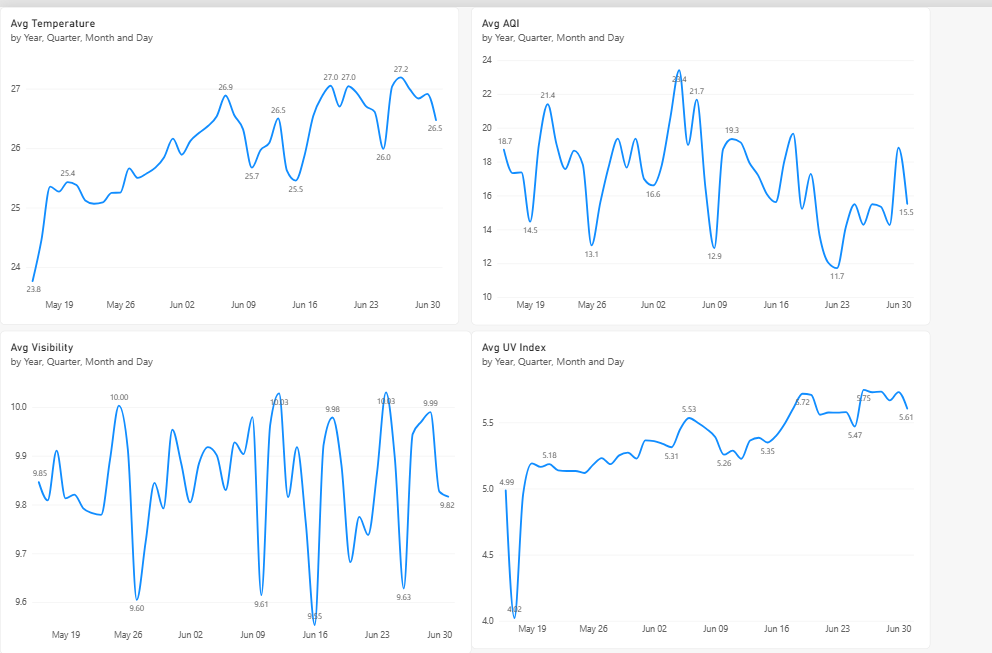

This screenshot's page, from the dashboard's own definition file:
{"tool":"powerbi","page":{"name":"Trends over time(2)","canvas":[1920,1080],"ordinal":10},"visuals":[{"type":"lineChart","fields":{"Category":["DateTable.Date.Variation.Date Hierarchy.Year","DateTable.Date.Variation.Date Hierarchy.Quarter","DateTable.Date.Variation.Date Hierarchy.Month","DateTable.Date.Variation.Date Hierarchy.Day"],"Y":["GlobalWeatherRepository.Avg WindSpeed"]},"box":[0,525,615,515],"z":0},{"type":"lineChart","fields":{"Category":["DateTable.Date.Variation.Date Hierarchy.Year","DateTable.Date.Variation.Date Hierarchy.Quarter","DateTable.Date.Variation.Date Hierarchy.Month","DateTable.Date.Variation.Date Hierarchy.Day"],"Y":["GlobalWeatherRepository.Avg Precipitation"]},"box":[625,0,615,515],"z":1000},{"type":"lineChart","fields":{"Category":["DateTable.Date.Variation.Date Hierarchy.Year","DateTable.Date.Variation.Date Hierarchy.Quarter","DateTable.Date.Variation.Date Hierarchy.Month","DateTable.Date.Variation.Date Hierarchy.Day"],"Y":["GlobalWeatherRepository.Avg cloudcover"]},"box":[625,525,615,515],"z":2000},{"type":"lineChart","fields":{"Category":["DateTable.Date.Variation.Date Hierarchy.Year","DateTable.Date.Variation.Date Hierarchy.Quarter","DateTable.Date.Variation.Date Hierarchy.Month","DateTable.Date.Variation.Date Hierarchy.Day"],"Y":["GlobalWeatherRepository.Avg Humidity"]},"box":[0,0,625.7,514.6],"z":3000}]}

Visuals, with their boxes on the page's 1920x1080 design canvas (x1, y1, x2, y2). These are canvas units, not pixel positions in the 992x653 screenshot, which may show the page scaled, cropped or inside an application window:
lineChart - DateTable.Date.Variation.Date Hierarchy.Year x DateTable.Date.Variation.Date Hierarchy.Quarter: detection(0, 525, 615, 1040)
lineChart - DateTable.Date.Variation.Date Hierarchy.Year x DateTable.Date.Variation.Date Hierarchy.Quarter: detection(625, 0, 1240, 515)
lineChart - DateTable.Date.Variation.Date Hierarchy.Year x DateTable.Date.Variation.Date Hierarchy.Quarter: detection(625, 525, 1240, 1040)
lineChart - DateTable.Date.Variation.Date Hierarchy.Year x DateTable.Date.Variation.Date Hierarchy.Quarter: detection(0, 0, 626, 515)
